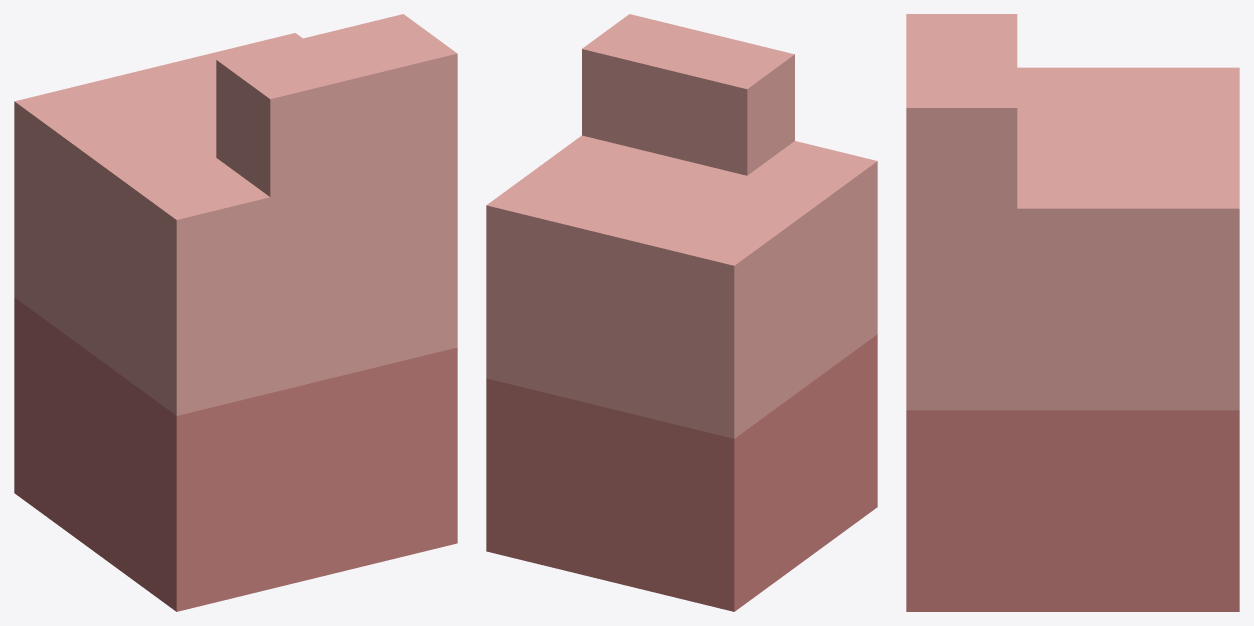
File: pig__leg_fl.glb
3 renders of one model, left to right at view 1: azimuth 30°, elevation 25°; view 2: azimuth 150°, elevation 25°; view 3: azimuth 270°, elevation 25°, orthographic. The views are drawn at different scales.
Visible parts, largest first — view 1: pig__leg_fl; view 2: pig__leg_fl; view 3: pig__leg_fl.
Boxes of the visible parts, bbox=[...] form: pig__leg_fl: bbox=[14, 14, 457, 611]; pig__leg_fl: bbox=[486, 14, 877, 611]; pig__leg_fl: bbox=[906, 14, 1239, 611].
Size of the model in its own units: 0.3 by 0.5 by 0.3.
1 material, 1 textured.
